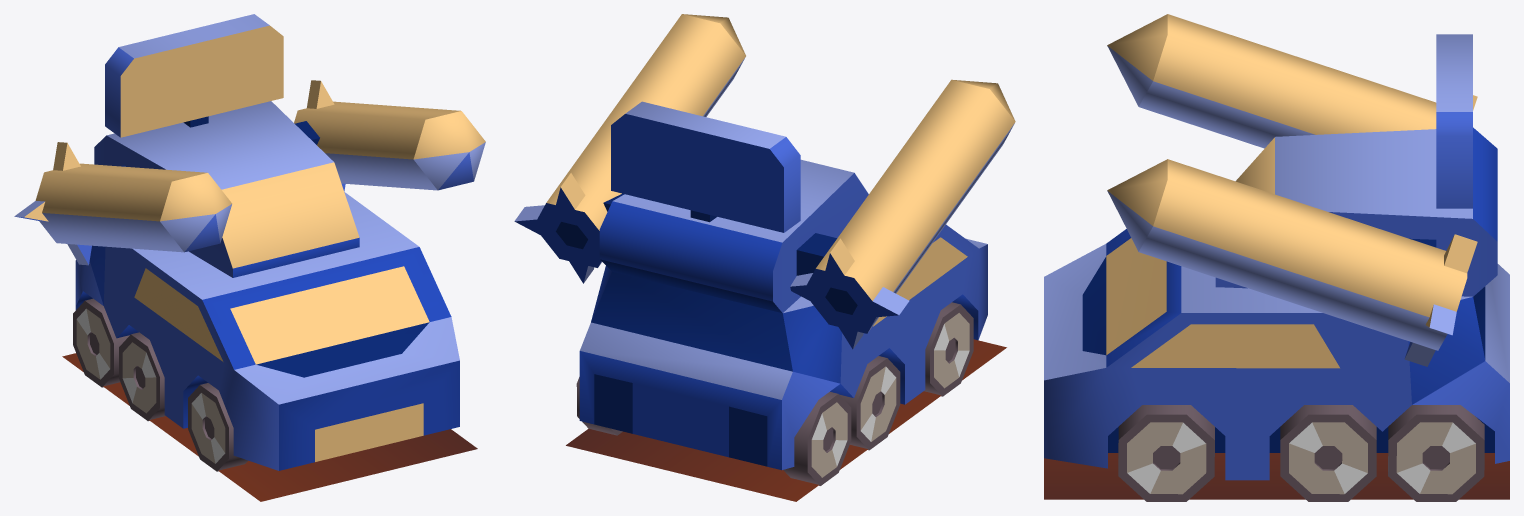
File: MissileMesh.CobaltIce.glb
The picture shows the model from 3 angles, left to right: view 1: azimuth 30°, elevation 25°; view 2: azimuth 150°, elevation 25°; view 3: azimuth 270°, elevation 25°; orthographic projection. The views are drawn at different scales.
Visible parts, largest first — view 1: MissileMesh.CobaltIce; view 2: MissileMesh.CobaltIce; view 3: MissileMesh.CobaltIce.
Part boxes in pixels (left/top/right/bottom): MissileMesh.CobaltIce: left=14, top=14, right=485, bottom=501; MissileMesh.CobaltIce: left=514, top=14, right=1015, bottom=501; MissileMesh.CobaltIce: left=1044, top=14, right=1509, bottom=501.
Bounding box in the file's own units: 2 × 1.65 × 1.9.
Materials: 1 (1 with a texture image).
